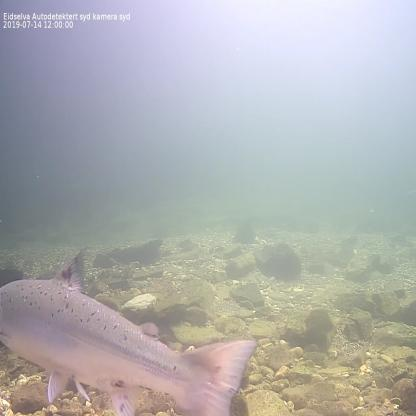salmon: (0, 244, 261, 415)
